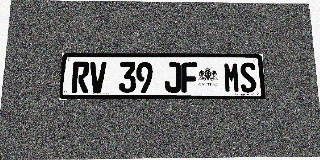3: (119, 62, 136, 93)
9: (136, 62, 153, 93)
F: (181, 62, 198, 93)
J: (164, 62, 181, 93)
M: (223, 62, 240, 93)
R: (71, 62, 90, 93)
S: (239, 62, 257, 93)
V: (89, 62, 107, 93)
